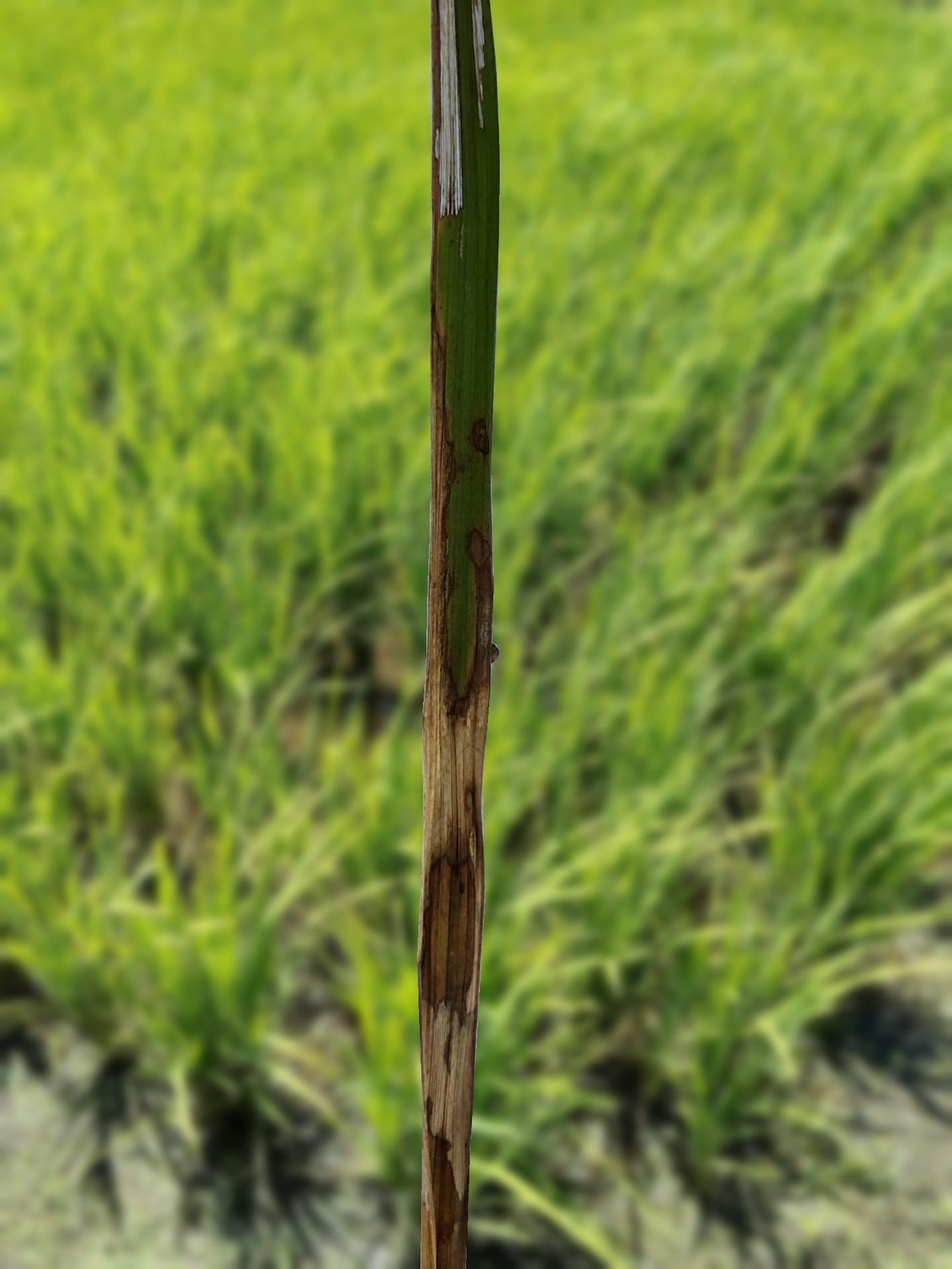BLB: (418, 0, 498, 1268)
LEAF: (417, 0, 499, 1268)
